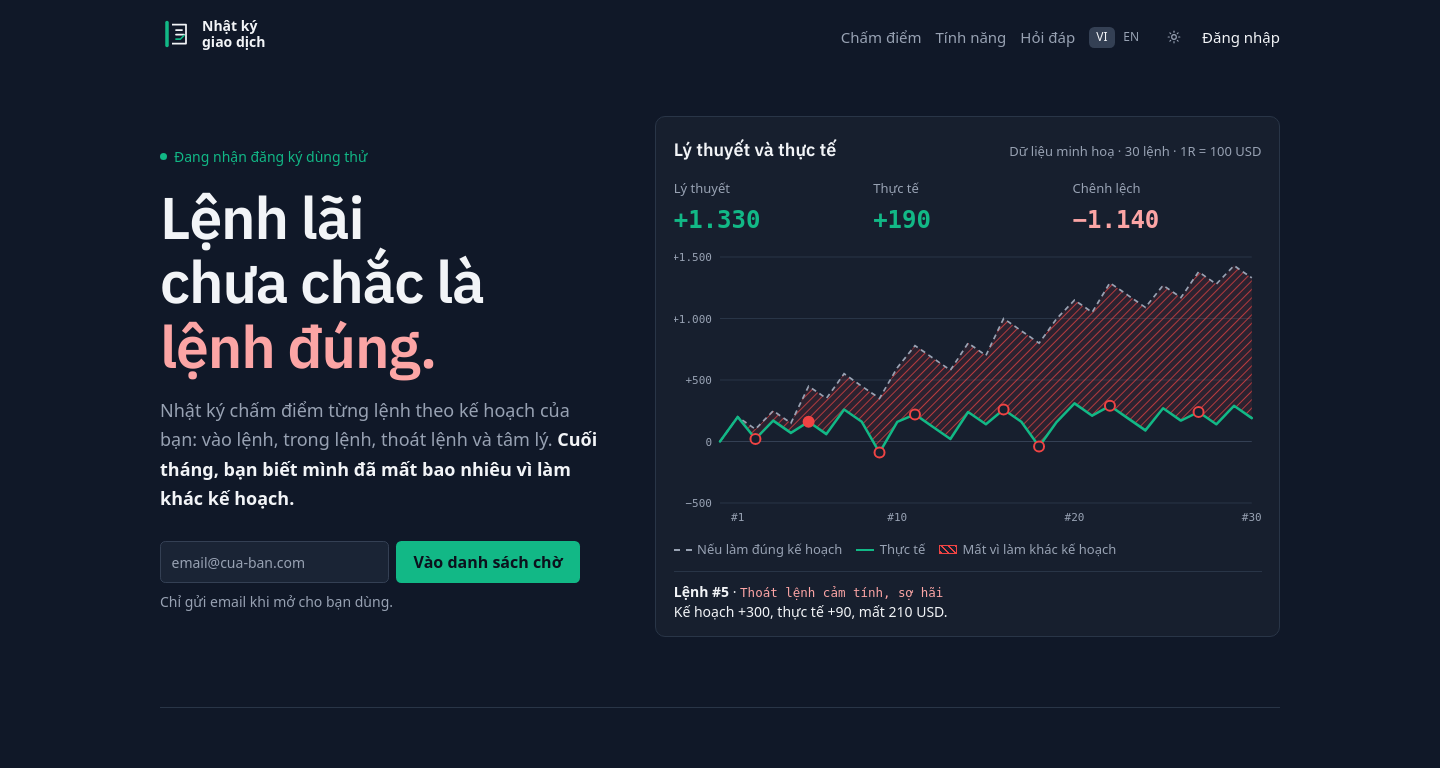
joining reveals the questions with the email interpolated, in both forms
Type " toi@gmail.com " into the field labelled "email" at (275, 562), box [160,541,389,583]
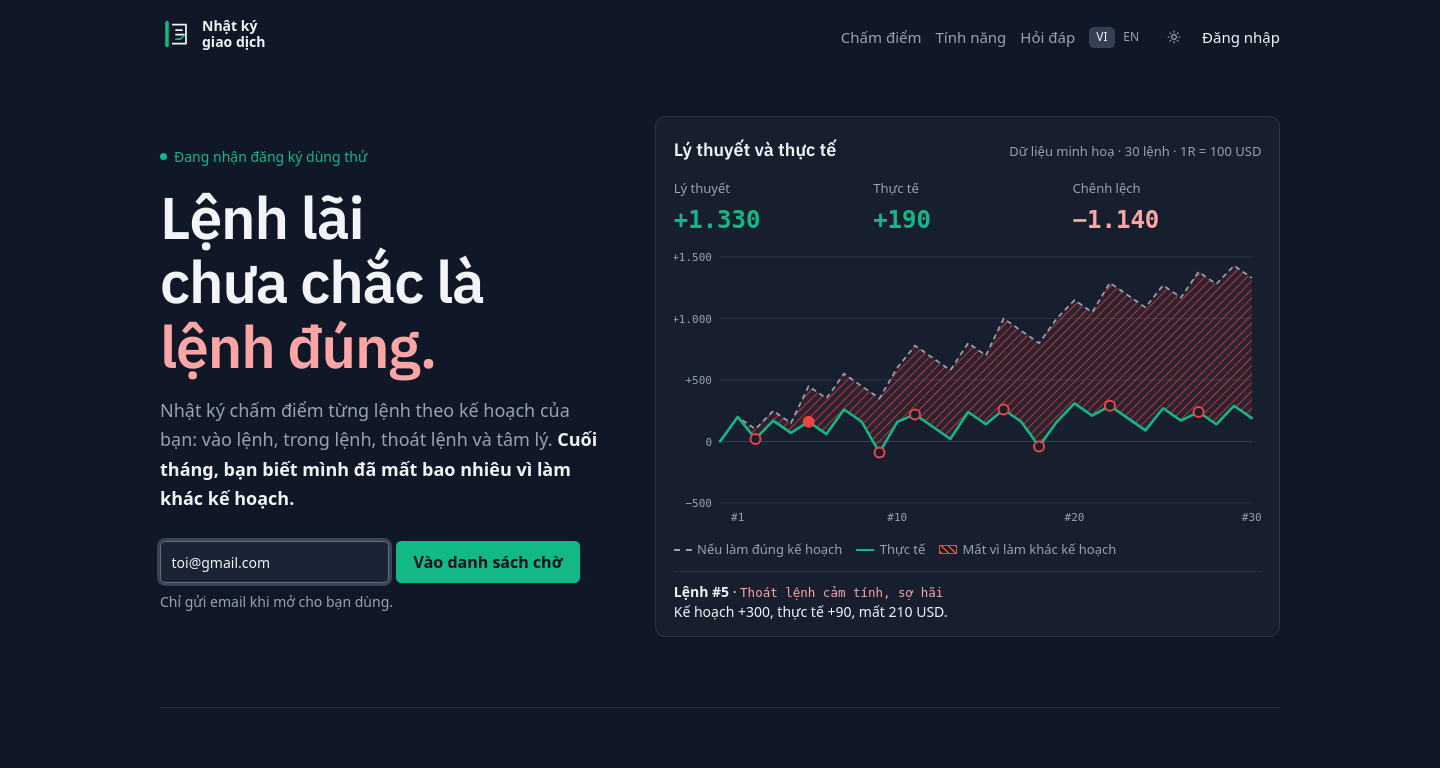
Click the button "Vào danh sách chờ" at (488, 562), box [396,541,580,583]
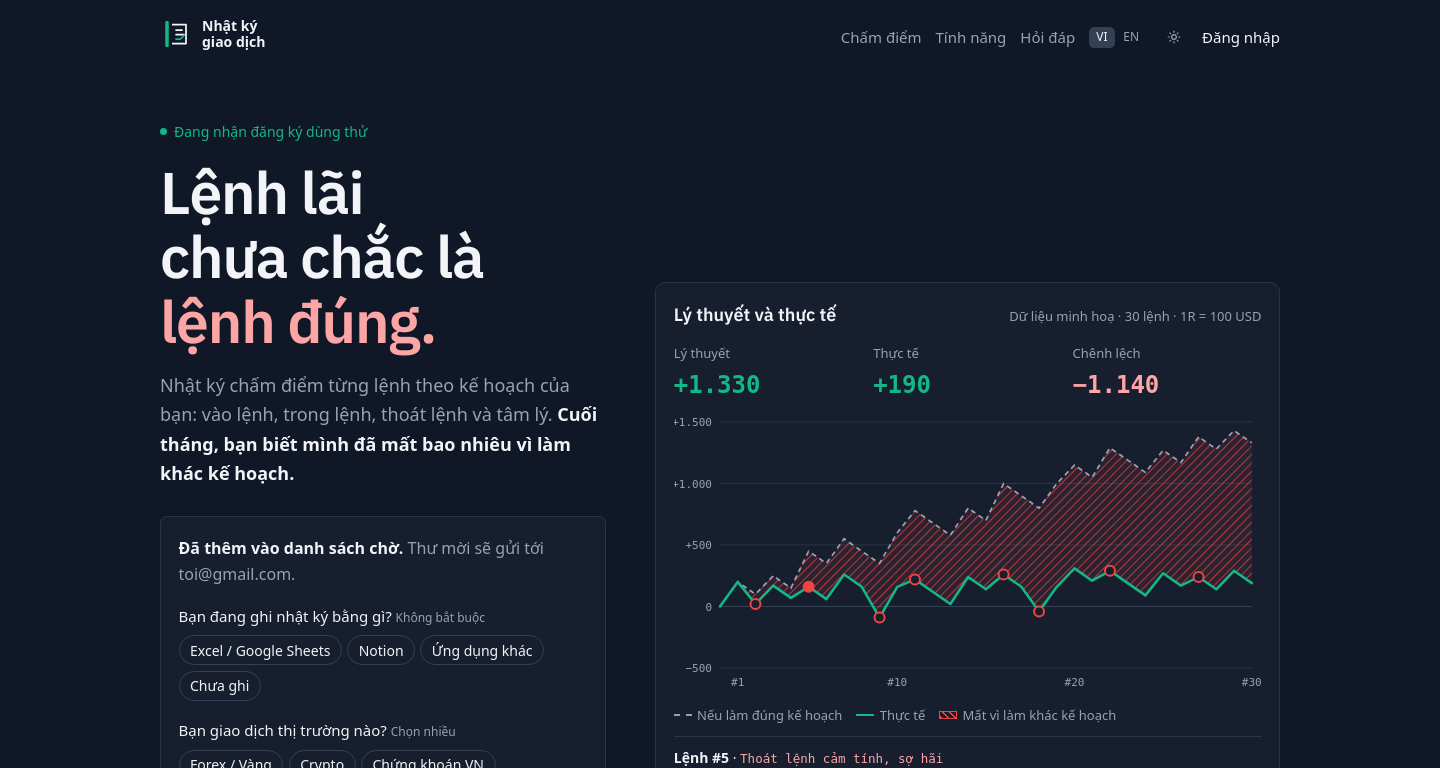
expect the text "Thư mời sẽ gửi tới toi@gmail.com." is shown 2 times: met
expect the number of elements "Bạn đang ghi nhật ký bằng gì?" is 2: met
